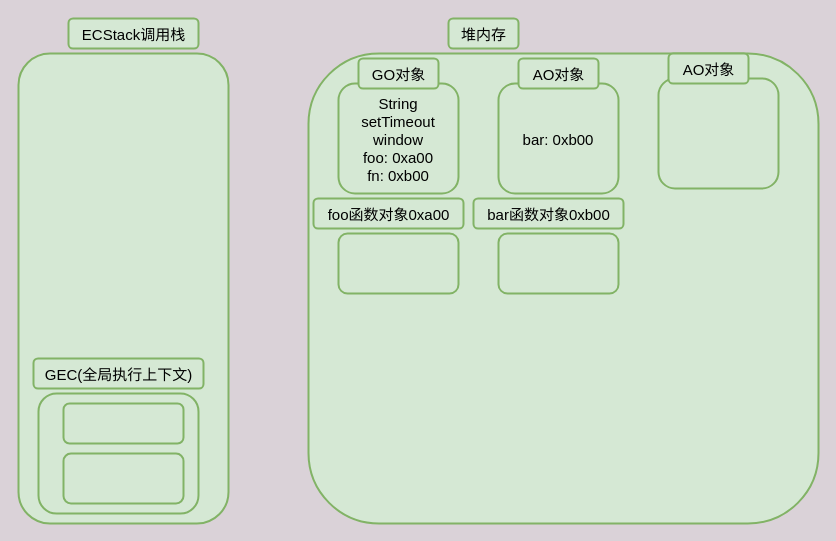
Some shapes in this 836 by 541 pixel diagram are drawn without their labels. The shapes that lost their labels are listed below. From the top down, each one's centre as x and y in pixels, then its label:
At point (123, 423): "VO: GO".
At point (123, 478): "开始执行代码 var fn = 0xb00".
